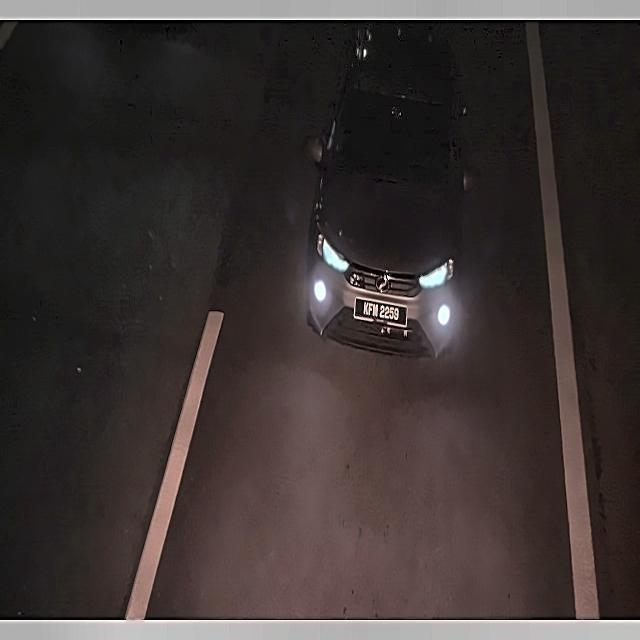car: (348, 288, 414, 336)
